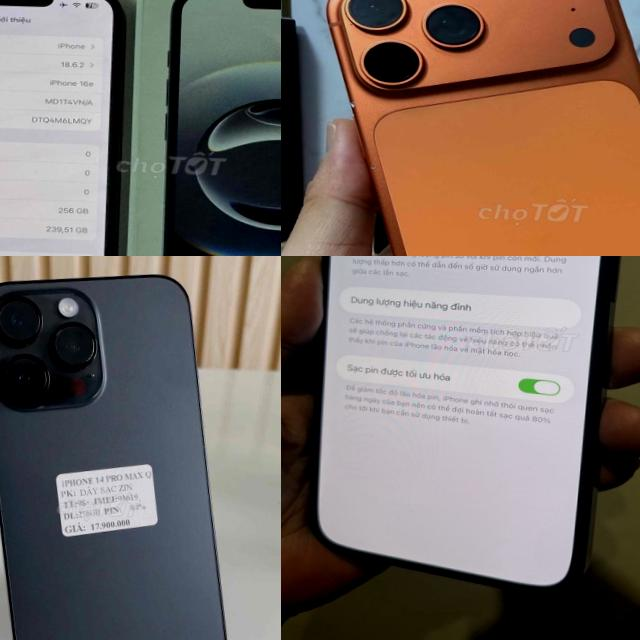gen_14: (287, 256, 638, 597), (0, 262, 252, 640)
gen_16: (0, 0, 124, 256)
gen_17: (309, 0, 640, 256)
